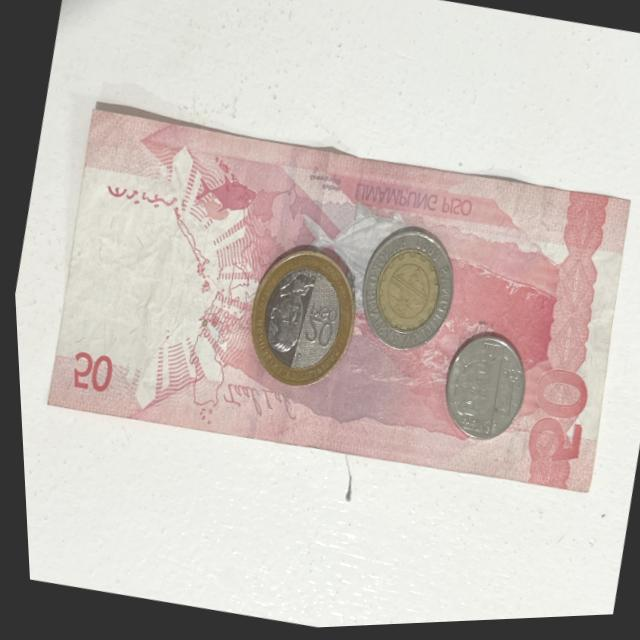10_Old_Back: (344, 221, 463, 365)
1_New_Front: (484, 360, 522, 437)
20_New_Front: (285, 297, 343, 364)
see_through_mark: (94, 175, 189, 221)
watermark: (64, 210, 198, 369)
